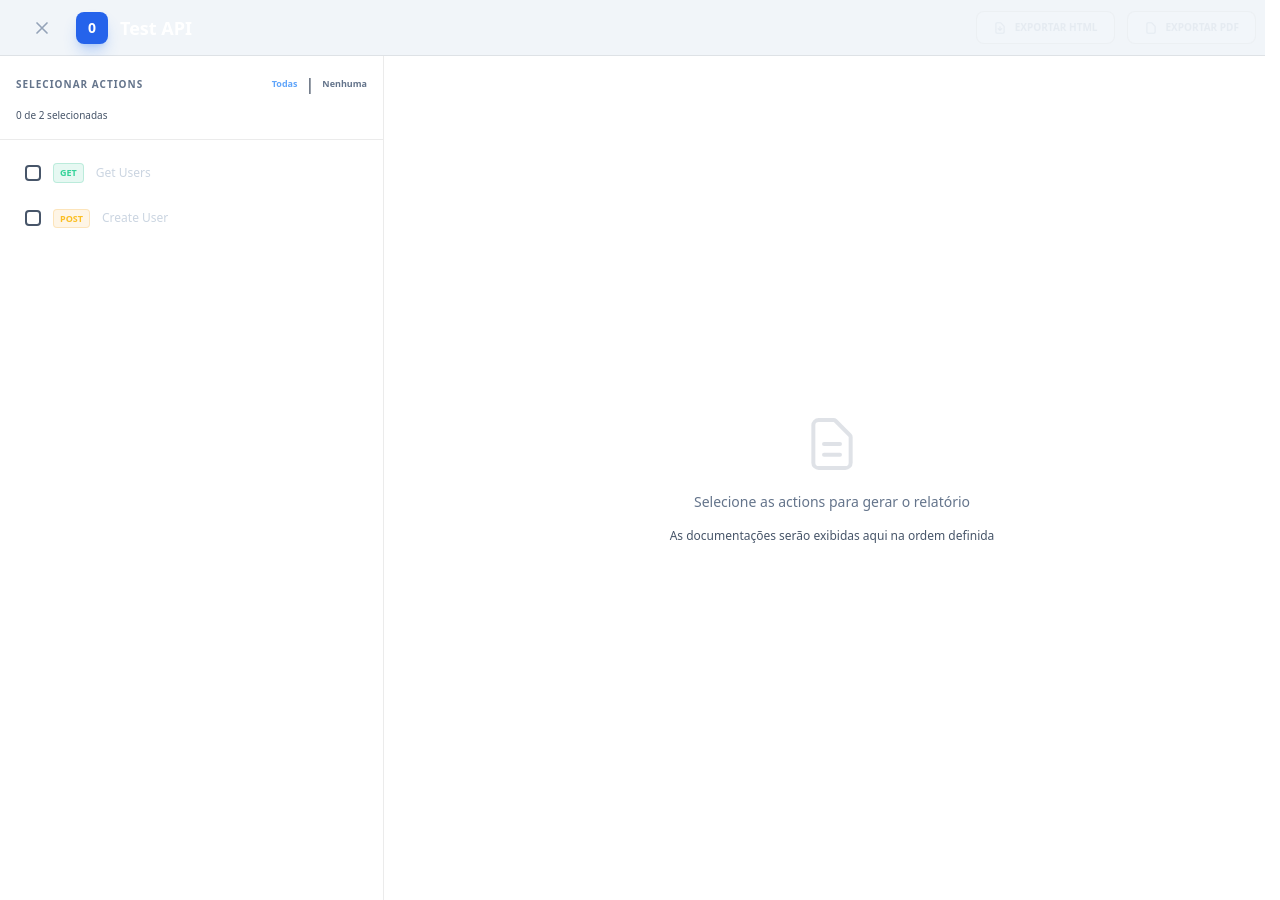
Test: ReportGeneratorModal › should select a request when clicked
The image size is (1280, 900).
Click the text "Get Users" at (123, 173), box [96,165,151,181]
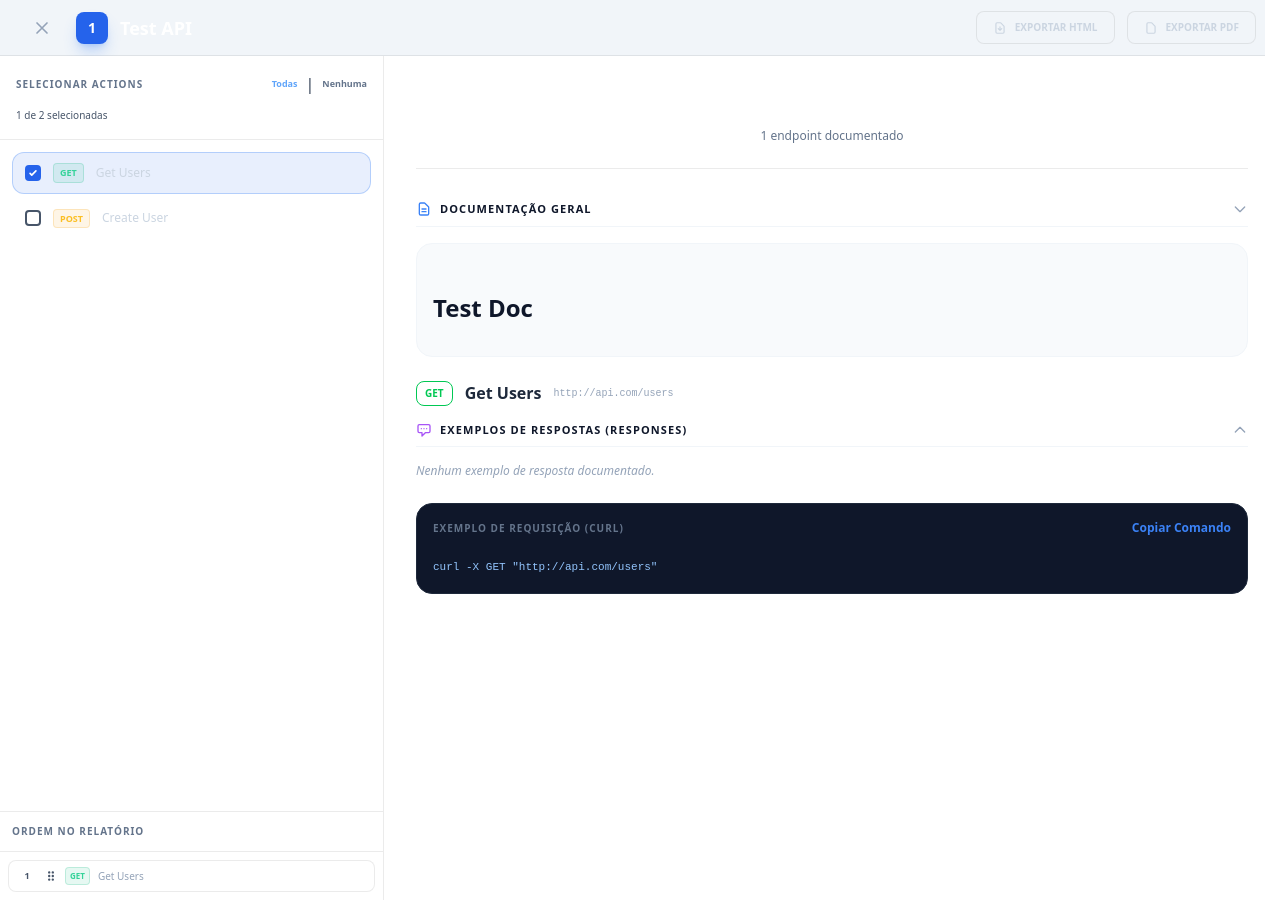
Check: the text "1 de 2 selecionadas" is shown, box [16,108,108,122]
